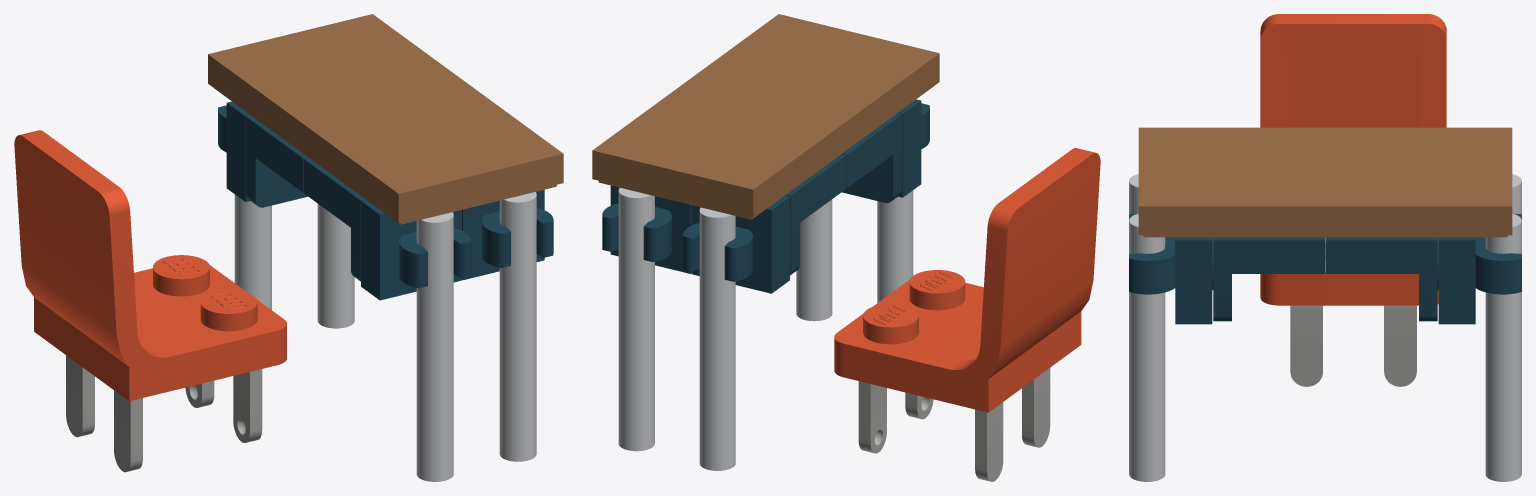
The model's file is student_desk.glb.
3 views of the same model, side by side, from view 1: azimuth 30°, elevation 25°; view 2: azimuth 150°, elevation 25°; view 3: azimuth 270°, elevation 25° (orthographic). The views are drawn at different scales.
Visible parts, largest first — view 1: _87079_dot_dat.002; view 2: _87079_dot_dat.002; view 3: _87079_dot_dat.002.
Boxes of the visible parts, left/top/right/bottom form: _87079_dot_dat.002: left=14, top=14, right=563, bottom=481; _87079_dot_dat.002: left=592, top=14, right=1100, bottom=481; _87079_dot_dat.002: left=1129, top=14, right=1521, bottom=481.
Size of the model in its own units: 0.9762 by 0.7084 by 0.863.
